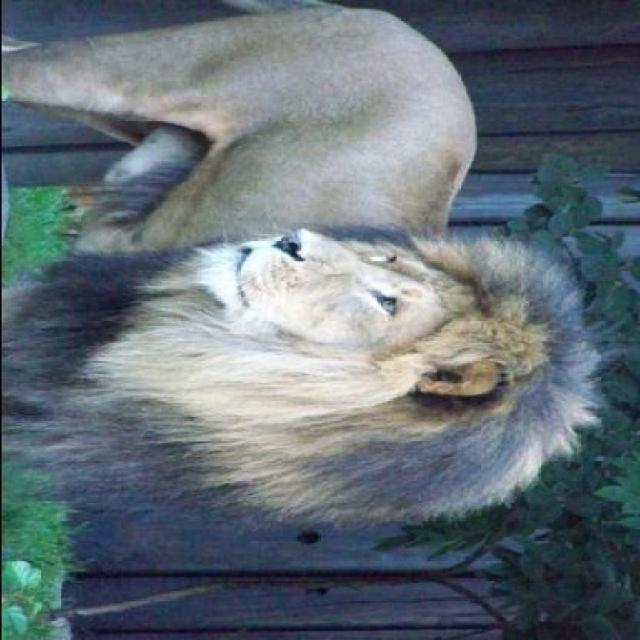Lion: (2, 6, 624, 565)
